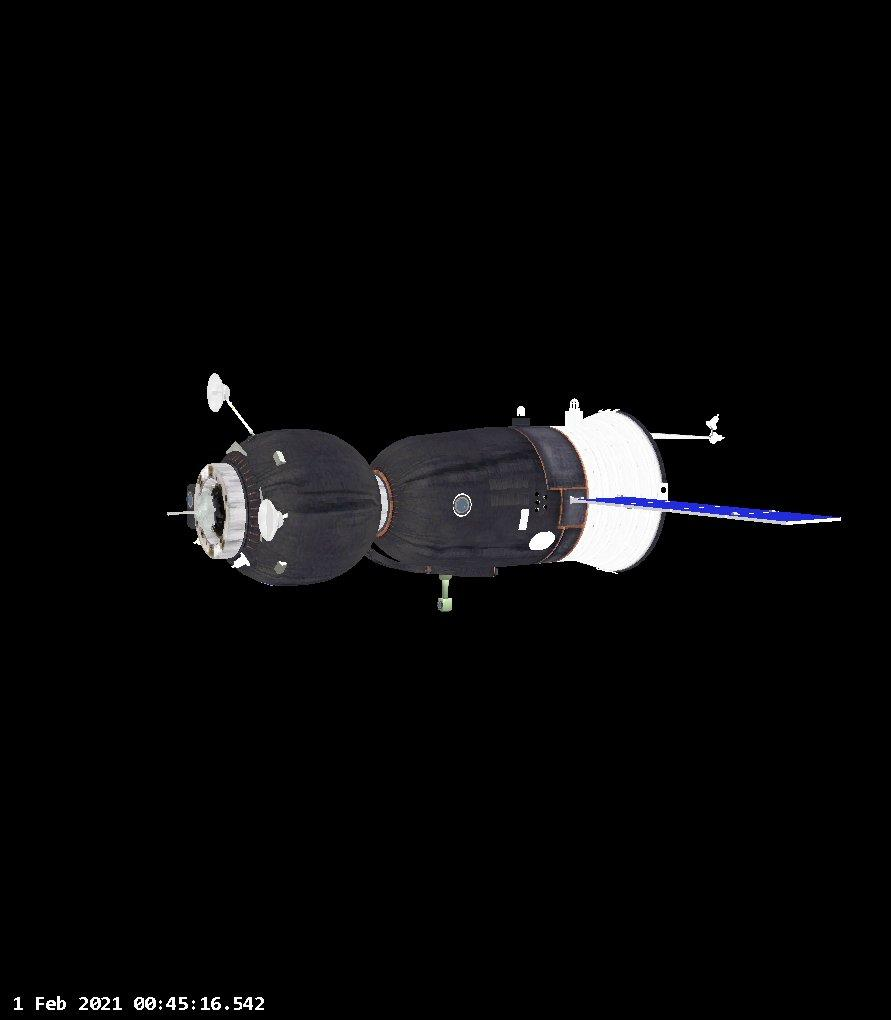antenna: (162, 484, 223, 536), (197, 367, 236, 419), (255, 496, 288, 545), (527, 528, 557, 552), (229, 549, 253, 572), (705, 411, 721, 430), (706, 432, 726, 447)
body: (203, 403, 669, 619)
solar: (569, 486, 841, 534)
thruster: (534, 499, 541, 505), (543, 493, 548, 501), (534, 491, 540, 497), (542, 504, 548, 510), (534, 507, 540, 513)
